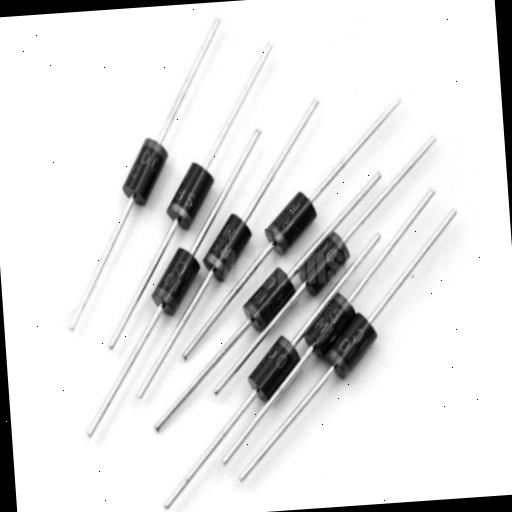DIODE: (46, 0, 476, 512), (143, 232, 252, 352), (296, 284, 388, 390), (94, 108, 177, 216), (272, 210, 346, 312), (244, 185, 334, 267), (236, 254, 323, 338), (164, 158, 228, 235), (238, 326, 318, 387), (194, 198, 244, 275)
